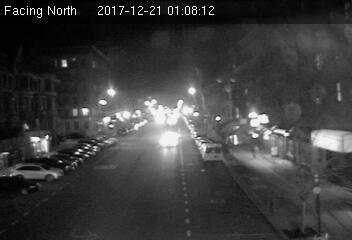truck: (201, 144, 224, 163)
